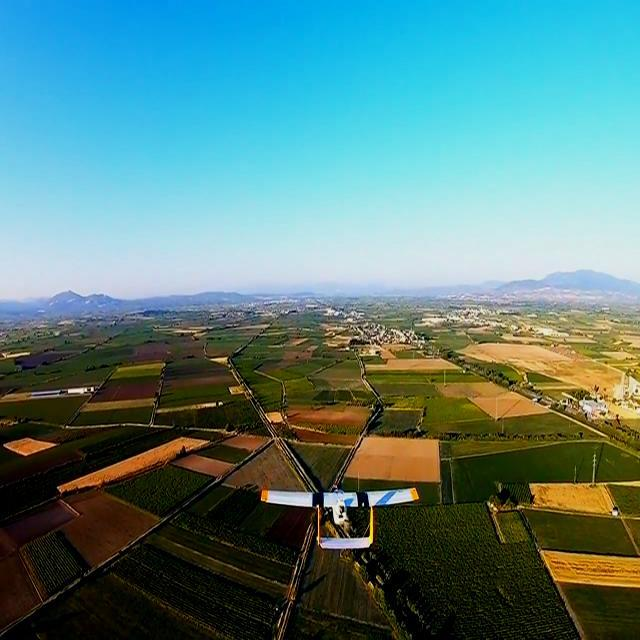iha: (247, 507, 427, 522)
